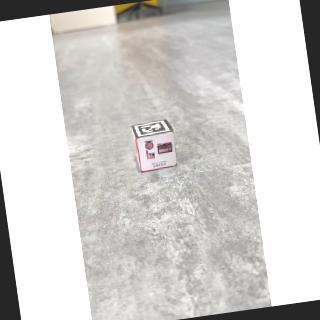Expired_Cosmetic: (137, 134, 177, 173)
